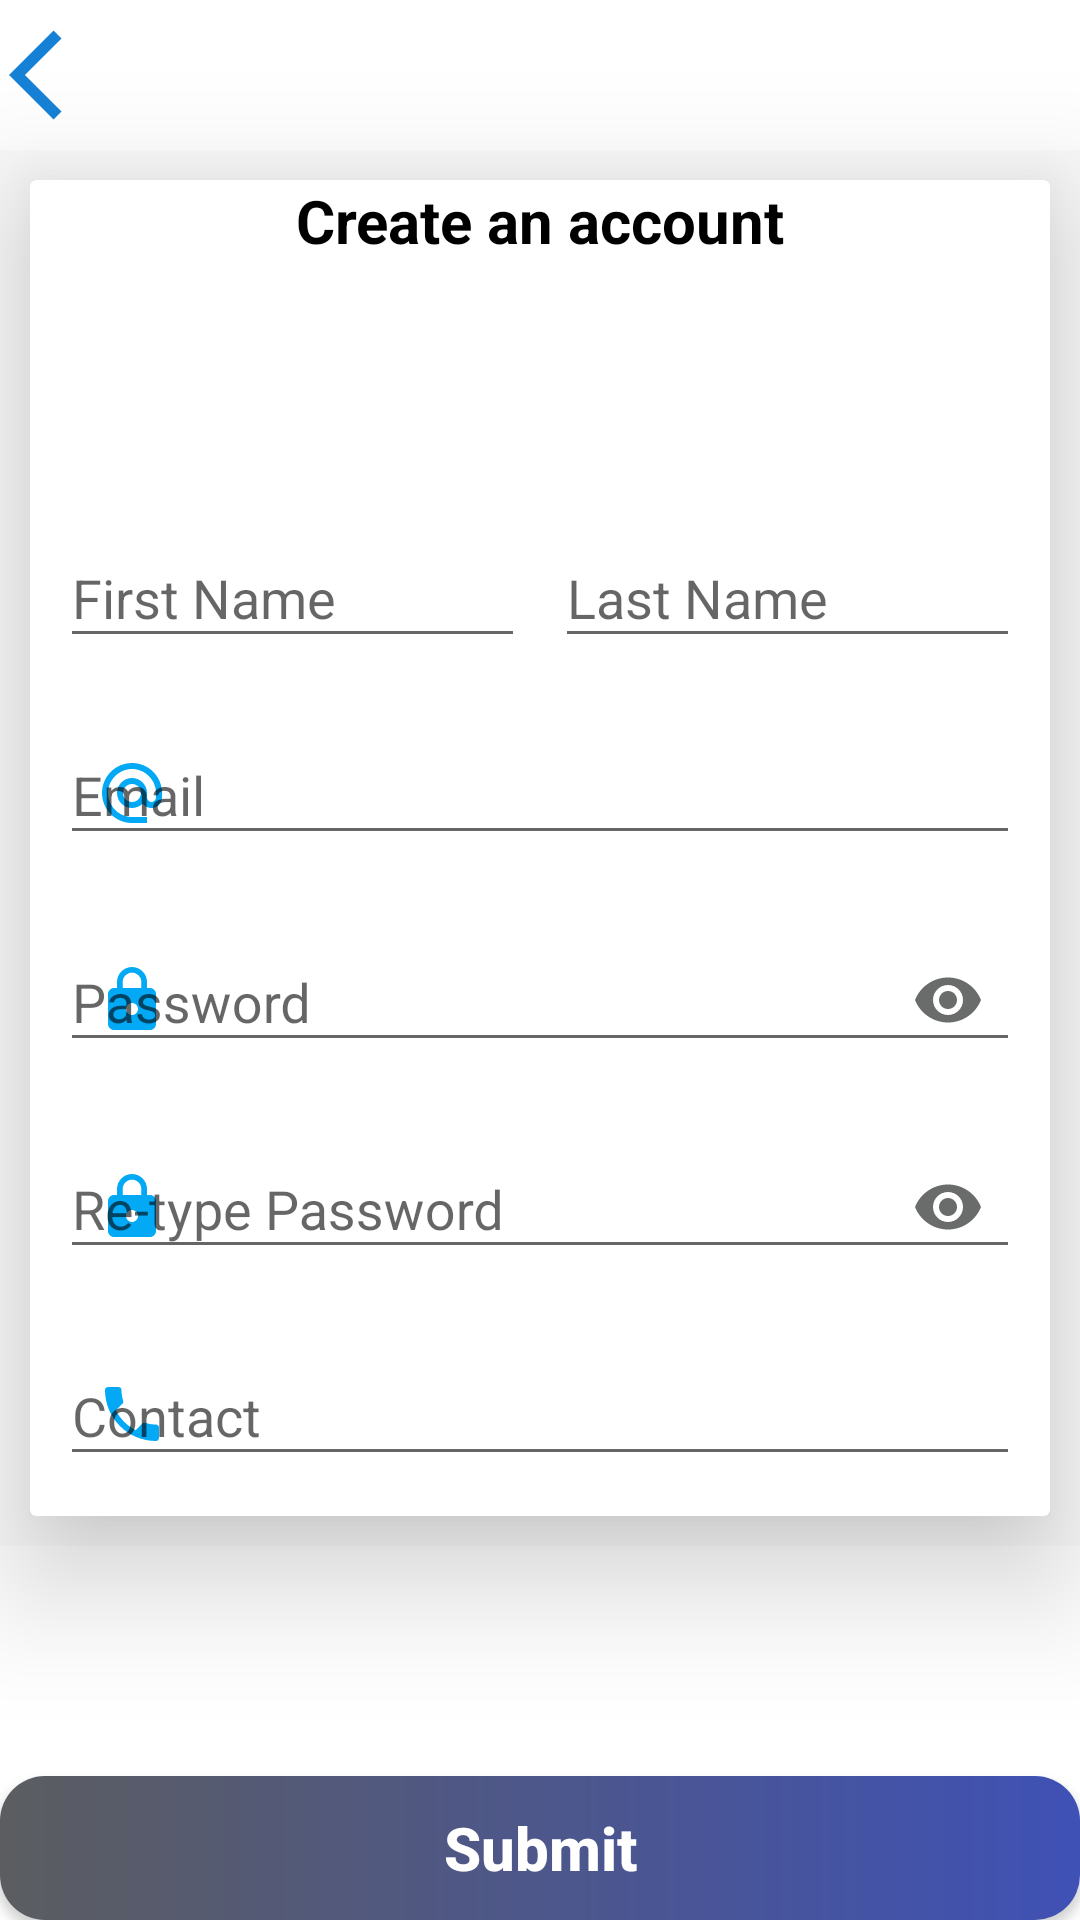

Named icons in this screenshot (1080 × 1920) and their bounding boxes, (x1, y1, x2, y2):
backicon: (9, 30, 62, 120)
